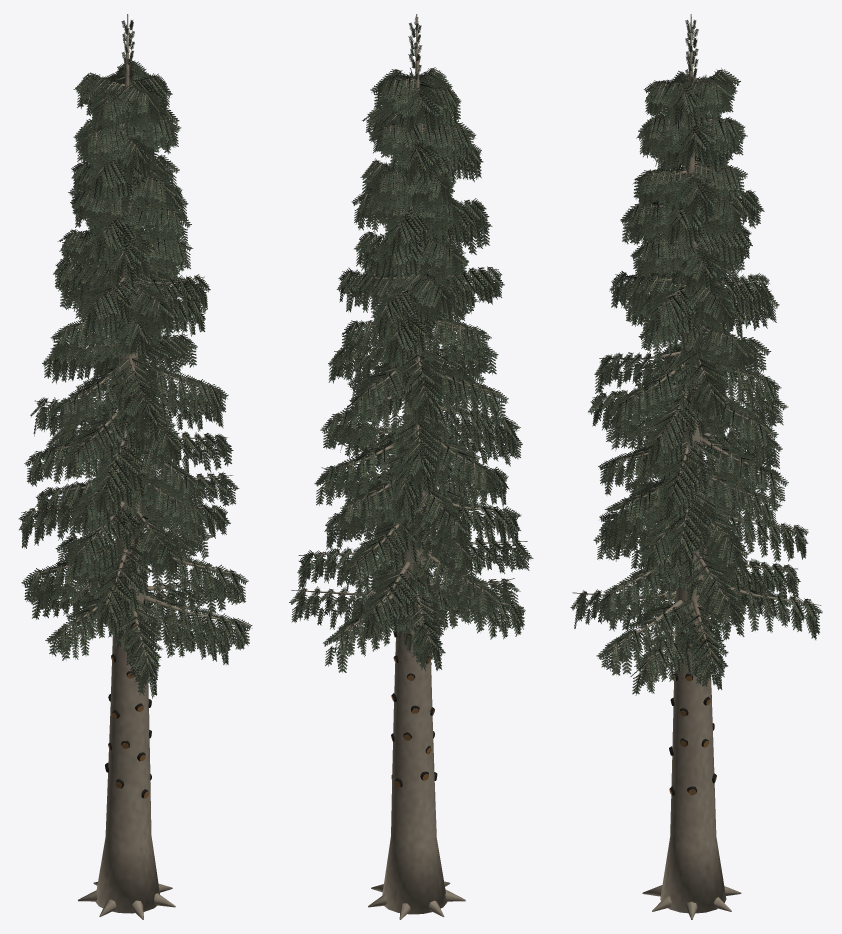
The model's file is Sitka_Mature_01_MediumPruned_Recent_LOD0.fbx.
3 views of the same model, side by side, from view 1: azimuth 30°, elevation 25°; view 2: azimuth 150°, elevation 25°; view 3: azimuth 270°, elevation 25° (orthographic).
Visible parts, largest first — view 1: Sitka_Mature_01_MediumPruned_Recent_LOD0, Sitka_Mature_01_MediumPruned_Recent_LOD0_Scars; view 2: Sitka_Mature_01_MediumPruned_Recent_LOD0, Sitka_Mature_01_MediumPruned_Recent_LOD0_Scars; view 3: Sitka_Mature_01_MediumPruned_Recent_LOD0, Sitka_Mature_01_MediumPruned_Recent_LOD0_Scars.
Part boxes in pixels (box(x1,y1,x2,y2)): Sitka_Mature_01_MediumPruned_Recent_LOD0: box(18, 14, 252, 919); Sitka_Mature_01_MediumPruned_Recent_LOD0_Scars: box(105, 622, 151, 798); Sitka_Mature_01_MediumPruned_Recent_LOD0: box(289, 14, 533, 919); Sitka_Mature_01_MediumPruned_Recent_LOD0_Scars: box(391, 630, 437, 787); Sitka_Mature_01_MediumPruned_Recent_LOD0: box(570, 14, 822, 919); Sitka_Mature_01_MediumPruned_Recent_LOD0_Scars: box(669, 625, 716, 795).
Bounding box in the file's own units: 724 × 2801 × 747.
3 materials, 3 textured.
